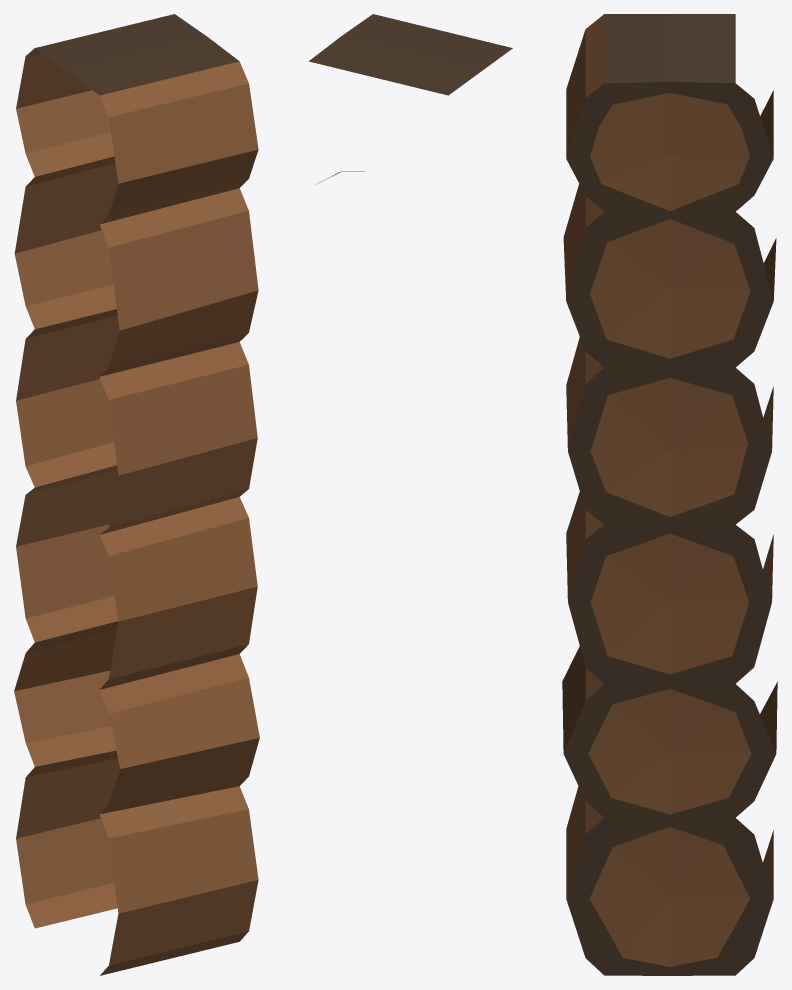
File: buildings-wall-wood-horizontal-corner.glb
The picture shows the model from 3 angles, left to right: view 1: azimuth 30°, elevation 25°; view 2: azimuth 150°, elevation 25°; view 3: azimuth 270°, elevation 25°; orthographic projection.
Parts seen in each view (by area): view 1: wall-wood-horizontal-corner; view 2: wall-wood-horizontal-corner; view 3: wall-wood-horizontal-corner.
Boxes of the visible parts, bbox=[...] form: wall-wood-horizontal-corner: bbox=[14, 14, 259, 975]; wall-wood-horizontal-corner: bbox=[309, 14, 512, 184]; wall-wood-horizontal-corner: bbox=[562, 14, 777, 975].
Bounding box in the file's own units: 0.5 × 3.01 × 0.656.
